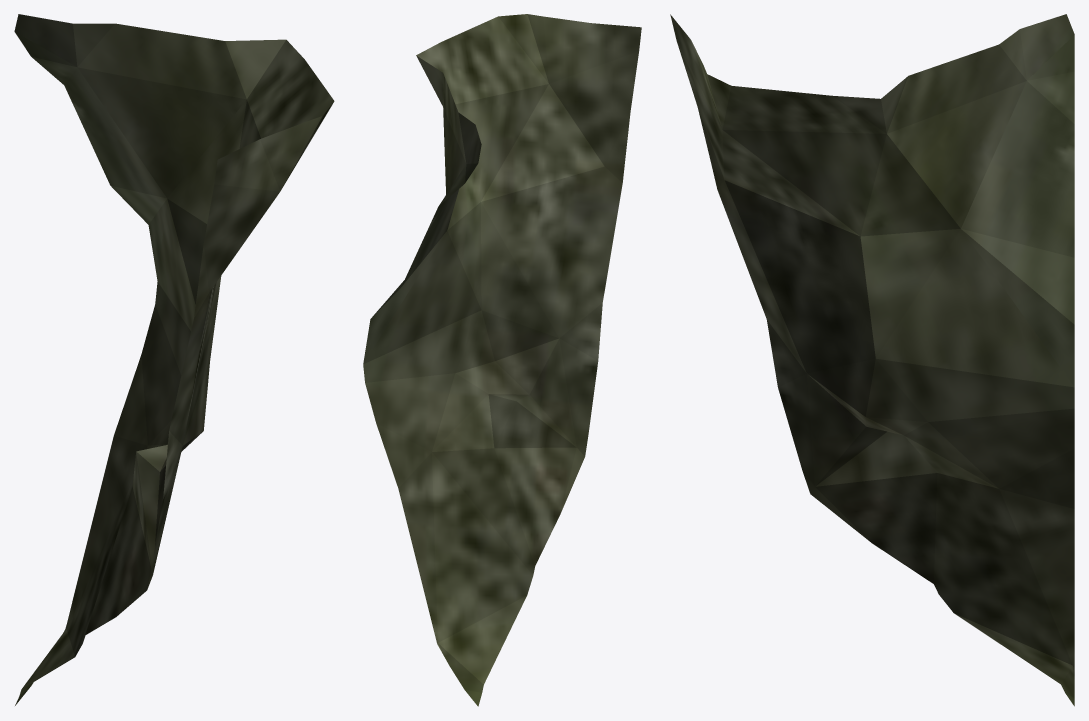
3 views of the same model, side by side, from view 1: azimuth 30°, elevation 25°; view 2: azimuth 150°, elevation 25°; view 3: azimuth 270°, elevation 25° (orthographic). The views are drawn at different scales.
Bounding box in the file's own units: 0.4441 × 1.69 × 0.8944.
Materials: 1 (1 with a texture image).
